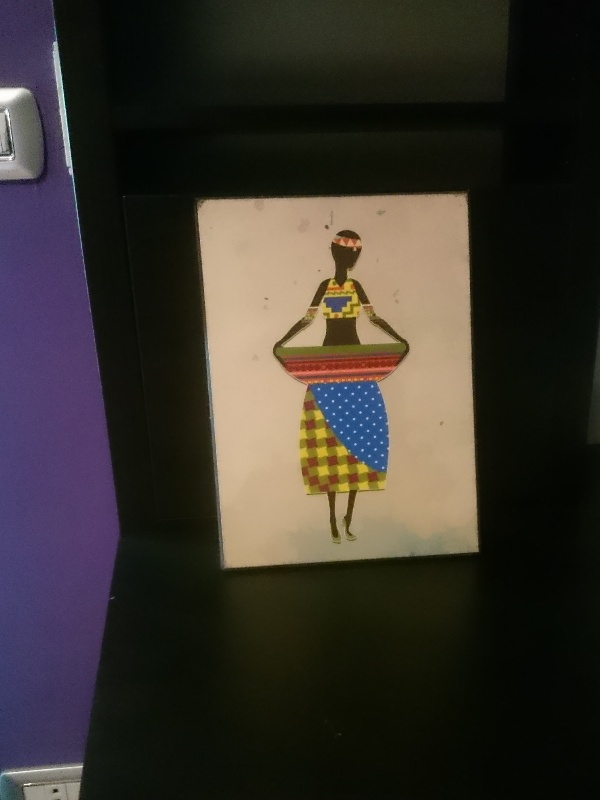my image: (197, 189, 475, 571)
